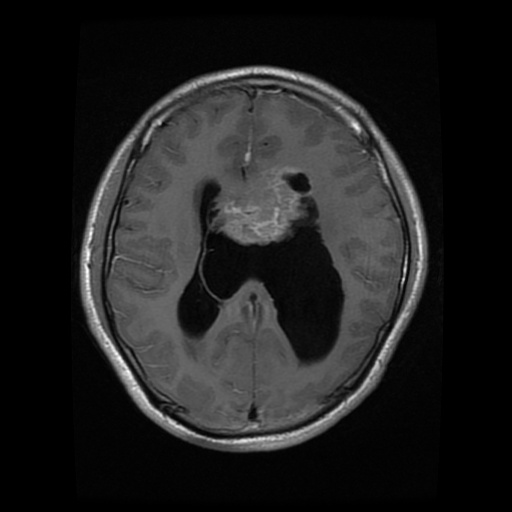glioma: (210, 164, 319, 245)
